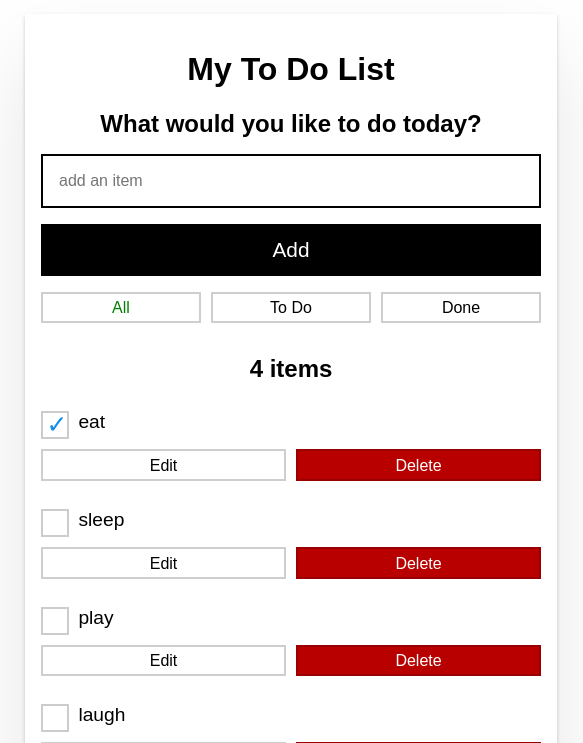
Test: Adding a Todo › should add a new todo
Type "Buy groceries" into the field with id "addItemInput". click: (291, 181)
box: [41,154,541,208]
Then press Enter
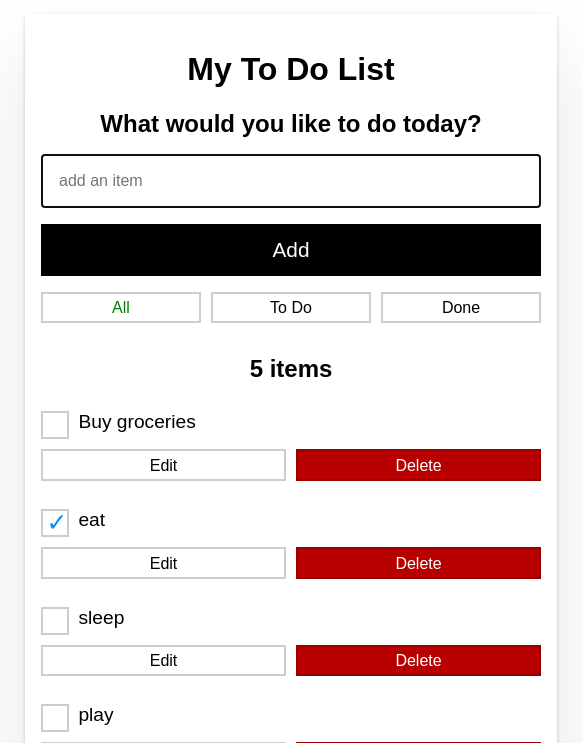
Expected: the element showing "Buy groceries Edit Delete" is shown, [41,403,541,501]
Expected: the label "Buy groceries" is shown, [78,411,196,432]
